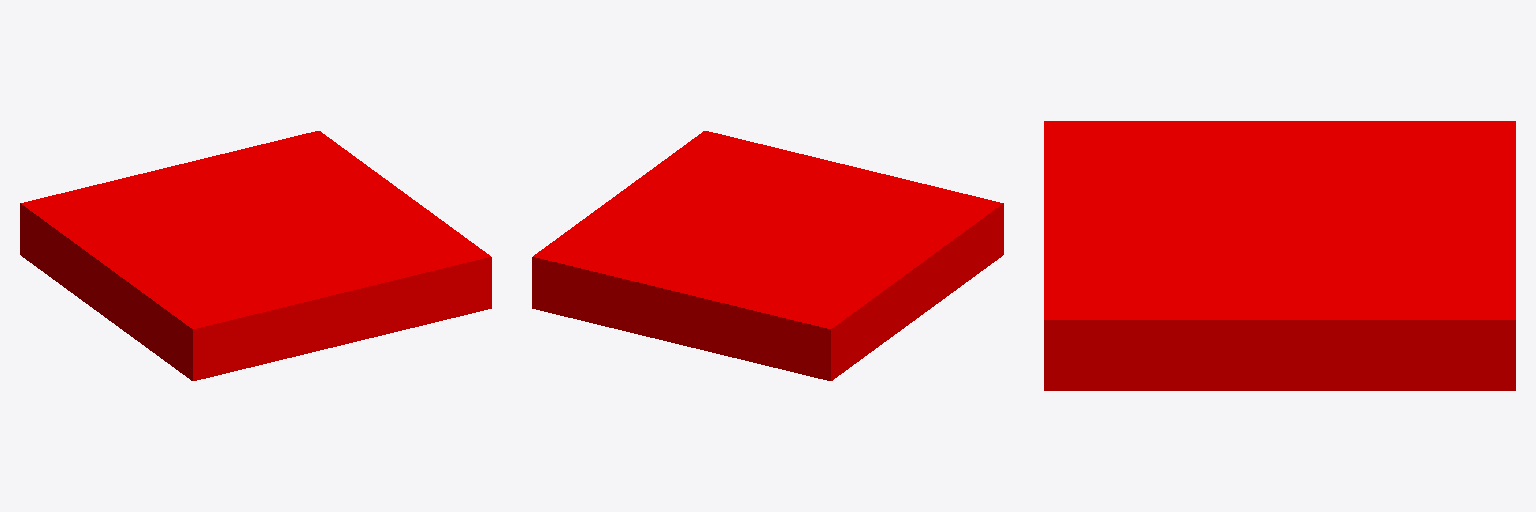
The robot description file, URDF, robot "heavy_stair":
<?xml version="1.0"?>
<robot name="heavy_stair">

  <link name="stair_base_link">
    <inertial>
      <origin xyz="0 0 0.1" rpy="0 0 0" />
      <mass value="50.0" />
      <inertia
        ixx="1.6667" ixy="0.0" ixz="0.0"
        iyy="1.6667" iyz="0.0"
        izz="0.8333" />
    </inertial>
    <visual>
      <origin xyz="0 0 0.1" rpy="0 0 0" />
      <geometry>
        <box size="1.2 1.2 0.2" />
      </geometry>
      <material name="stair_material">
        <color rgba="1.0 0.0 0.0 1.0" />
      </material>
    </visual>
    <collision>
      <origin xyz="0 0 0.1" rpy="0 0 0" />
      <geometry>
        <box size="1.2 1.2 0.2" />
      </geometry>
    </collision>
  </link>

  <!-- 如果需要，可以添加Gazebo属性 -->
  <gazebo reference="stair_base_link">
    <material>Gazebo/Red</material>
  </gazebo>

</robot>

--- What the picture shows (computed from the rendered views, not written in the file) ---
3 views of the same robot in one strip: view 1: azimuth 30°, elevation 25°; view 2: azimuth 150°, elevation 25°; view 3: azimuth 270°, elevation 25° (orthographic).
Robot: heavy_stair — 1 links, 0 joints (none); root link stair_base_link; default pose: all joints at 0.
Visible links, largest first — view 1: stair_base_link; view 2: stair_base_link; view 3: stair_base_link.
Boxes of the visible links, x1=… form: stair_base_link: x1=20, y1=131, x2=491, y2=380; stair_base_link: x1=532, y1=131, x2=1003, y2=380; stair_base_link: x1=1044, y1=121, x2=1515, y2=390.
Size in the robot's own frame: 1.2 by 1.2 by 0.2 metres.
Geometry: primitives only (box / cylinder / sphere), no mesh files.
